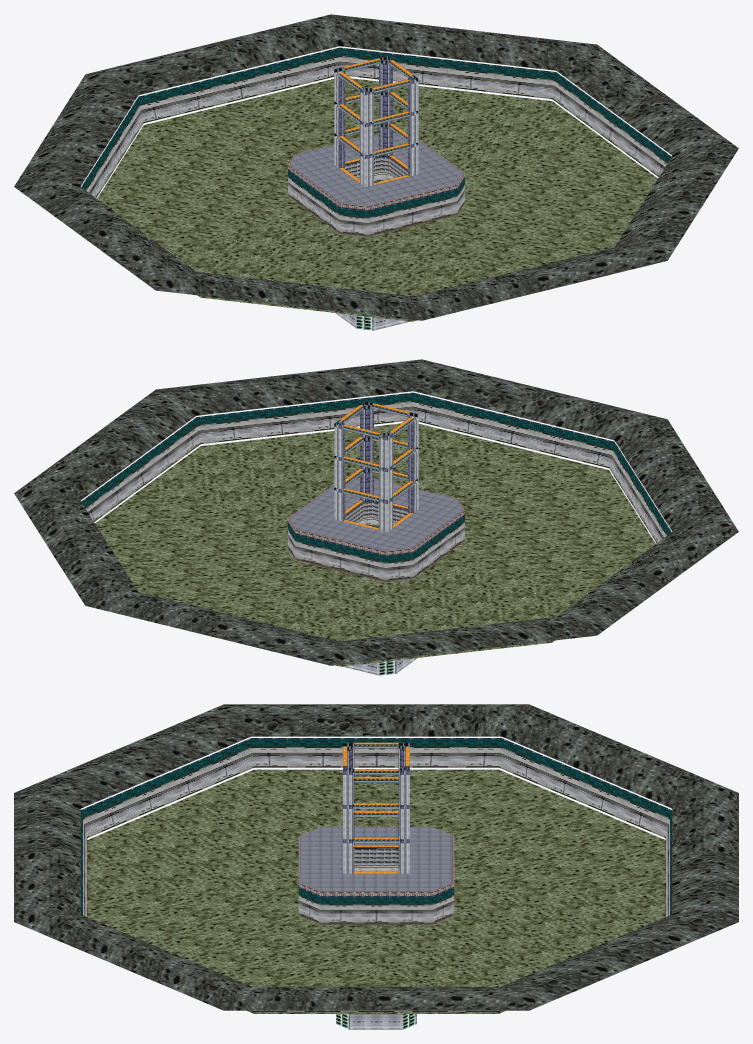
Rendered from KnucklesVsRouge.obj.
3 renders of one model, top to bottom at view 1: azimuth 30°, elevation 25°; view 2: azimuth 150°, elevation 25°; view 3: azimuth 270°, elevation 25°, orthographic. The views are drawn at different scales.
Bounding box in the file's own units: 3260 × 1270 × 3260.
18 materials, 18 textured.
